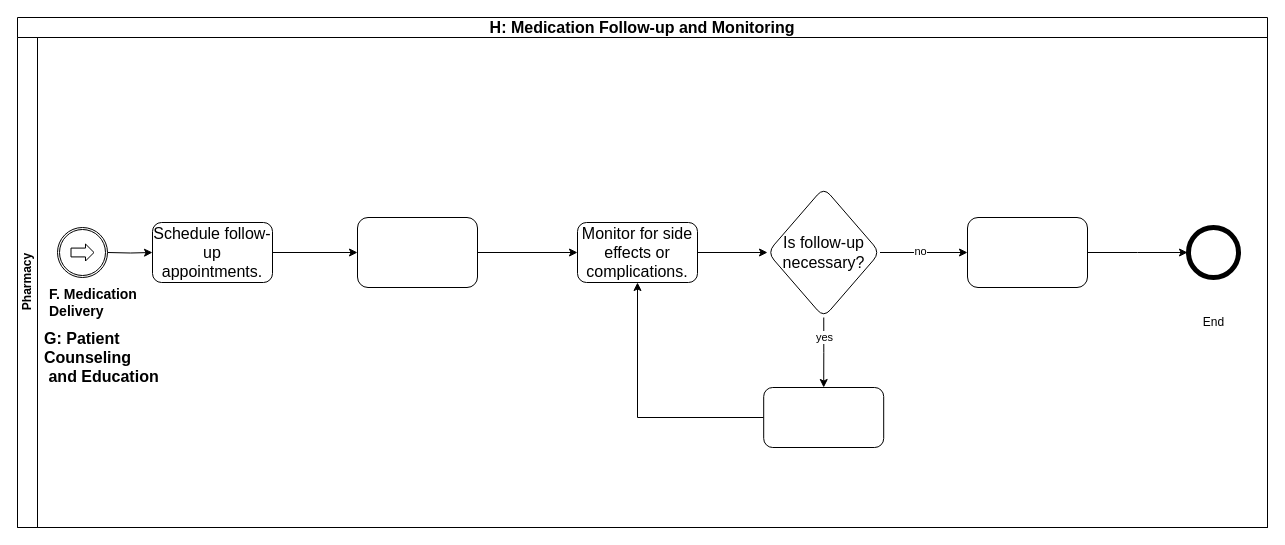
This 1285x545 diagram has some shape labels left out. The box of each missing label's shape, as (x1, y1, x2, y2) in pixels:
Assess medication adherence.: (356, 216, 478, 288)
Conclude the process.: (966, 216, 1088, 288)
Continue monitoring: (763, 386, 884, 448)
